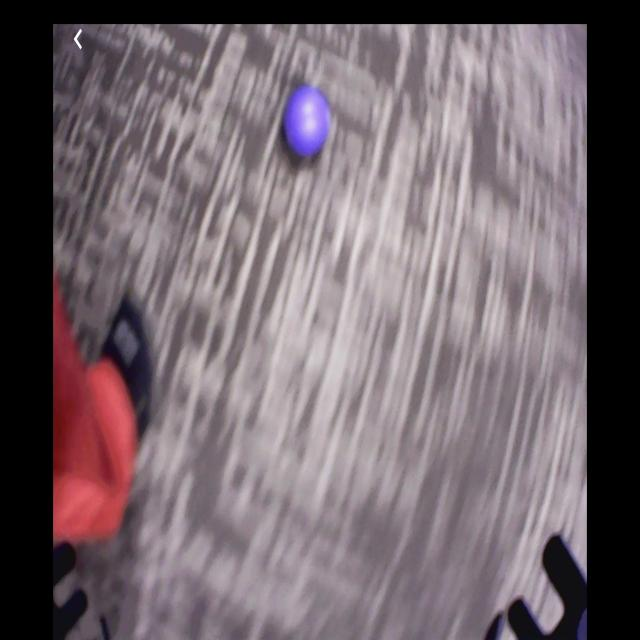ball: (284, 88, 329, 157)
